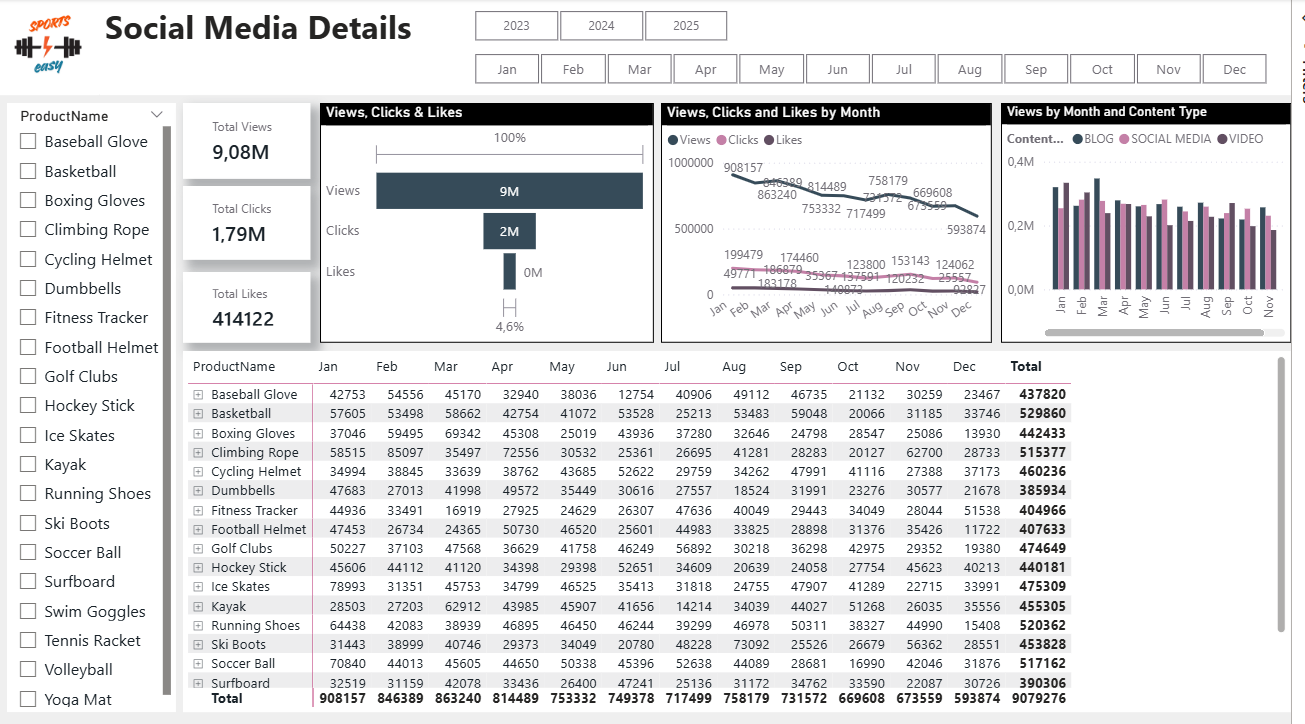

The page's visual inventory and layout, read from the dashboard file:
{"tool":"powerbi","page":{"name":"Social Media Details ","canvas":[1280,720],"ordinal":2},"visuals":[{"type":"image","box":[0,0,102.8,94.9],"z":0},{"type":"textbox","box":[102.8,0,1177.2,94.9],"z":1000},{"type":"slicer","fields":{"Values":["Calendar.Year"]},"box":[447.8,4.9,299.5,42.5],"z":2000},{"type":"slicer","fields":{"Values":["Calendar.MonthNameShort"]},"box":[447.8,47.4,832.2,43.5],"z":3000},{"type":"slicer","fields":{"Values":["dim_products.ProductName"]},"box":[10.9,102.8,167,601.9],"z":4000},{"type":"cardVisual","fields":{"Data":["fact_engagement_data.TotViews"]},"box":[184.8,102.8,125.5,75.1],"z":5000},{"type":"cardVisual","fields":{"Data":["fact_engagement_data.TotClicks"]},"box":[184.8,184.8,125.5,73.1],"z":6000},{"type":"cardVisual","fields":{"Data":["fact_engagement_data.TotLikes"]},"box":[184.8,269.8,125.5,70.2],"z":7000},{"type":"funnel","title":"Views, Clicks & Likes","fields":{"Y":["fact_engagement_data.TotViews","fact_engagement_data.TotClicks","fact_engagement_data.TotLikes"]},"box":[320.2,102.8,330.1,237.2],"z":8000},{"type":"lineChart","title":"Views, Clicks and Likes by Month","fields":{"Category":["Calendar.MonthNameShort"],"Y":["fact_engagement_data.TotViews","fact_engagement_data.TotClicks","fact_engagement_data.TotLikes"]},"box":[657.3,102.8,327.2,237.2],"z":9000},{"type":"clusteredColumnChart","title":"Views by Month and Content Type","fields":{"Category":["Calendar.MonthNameShort"],"Y":["fact_engagement_data.TotViews"],"Series":["fact_engagement_data.ContentType"]},"box":[993.4,102.8,286.6,237.2],"z":10000},{"type":"pivotTable","fields":{"Rows":["dim_products.ProductName","fact_engagement_data.ContentType"],"Columns":["Calendar.MonthNameShort"],"Values":["fact_engagement_data.TotViews"]},"box":[184.8,347.9,1095.2,356.8],"z":11000}]}

Visuals, with their boxes on the page's 1280x720 design canvas (x1, y1, x2, y2). These are canvas units, not pixel positions in the 1305x724 screenshot, which may show the page scaled, cropped or inside an application window:
image: bbox=(0, 0, 103, 95)
textbox: bbox=(103, 0, 1280, 95)
slicer - Calendar.Year: bbox=(448, 5, 747, 47)
slicer - Calendar.MonthNameShort: bbox=(448, 47, 1280, 91)
slicer - dim_products.ProductName: bbox=(11, 103, 178, 705)
cardVisual - fact_engagement_data.TotViews: bbox=(185, 103, 310, 178)
cardVisual - fact_engagement_data.TotClicks: bbox=(185, 185, 310, 258)
cardVisual - fact_engagement_data.TotLikes: bbox=(185, 270, 310, 340)
"Views, Clicks & Likes" funnel: bbox=(320, 103, 650, 340)
"Views, Clicks and Likes by Month" lineChart: bbox=(657, 103, 984, 340)
"Views by Month and Content Type" clusteredColumnChart: bbox=(993, 103, 1280, 340)
pivotTable - dim_products.ProductName x fact_engagement_data.ContentType: bbox=(185, 348, 1280, 705)
